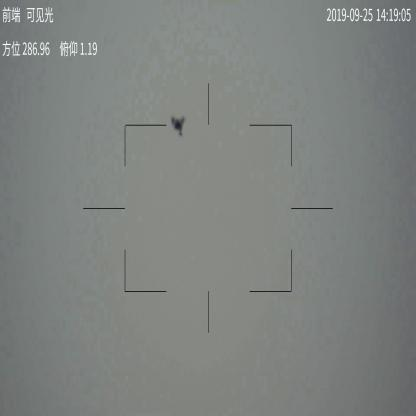uav: (168, 114, 186, 137)
